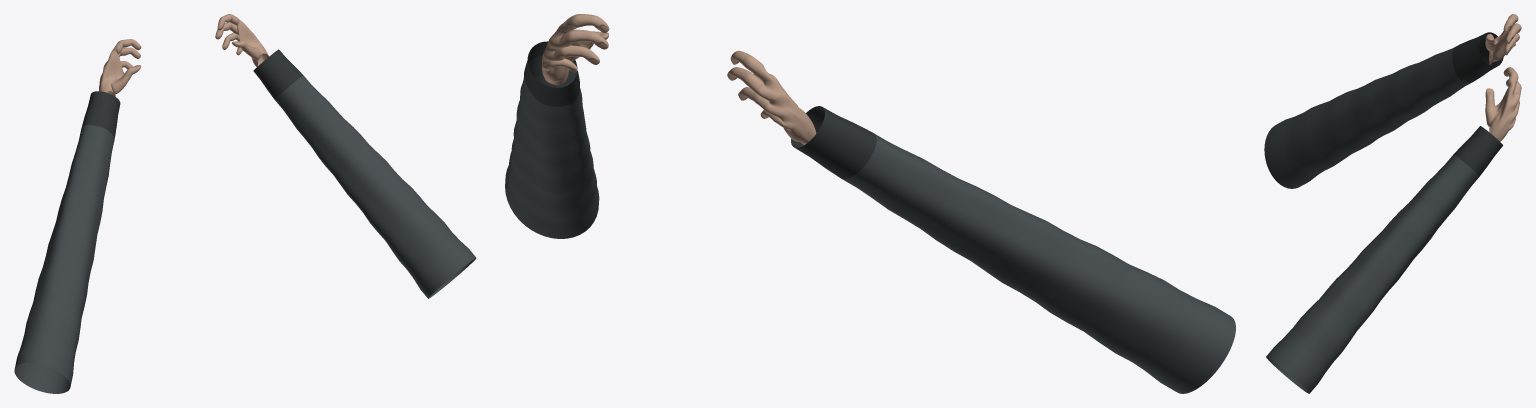
The model's file is photo.glb.
3 renders of one model, left to right at view 1: azimuth 30°, elevation 25°; view 2: azimuth 150°, elevation 25°; view 3: azimuth 270°, elevation 25°, orthographic. The views are drawn at different scales.
Visible parts, largest first — view 1: RightHand_photo_Sleeve, LeftHand_photo_Sleeve, LeftHand_photo, RightHand_photo; view 2: LeftHand_photo_Sleeve, RightHand_photo_Sleeve, LeftHand_photo, RightHand_photo; view 3: RightHand_photo_Sleeve, LeftHand_photo_Sleeve, RightHand_photo, LeftHand_photo.
Boxes of the visible parts, x1,y1,x2,y2 form: RightHand_photo_Sleeve: (253, 49, 476, 298); LeftHand_photo_Sleeve: (14, 91, 120, 393); LeftHand_photo: (99, 39, 141, 96); RightHand_photo: (215, 14, 268, 66); LeftHand_photo_Sleeve: (791, 106, 1235, 393); RightHand_photo_Sleeve: (505, 41, 599, 238); LeftHand_photo: (727, 50, 816, 145); RightHand_photo: (542, 14, 609, 85); RightHand_photo_Sleeve: (1266, 126, 1502, 393); LeftHand_photo_Sleeve: (1264, 32, 1503, 188); RightHand_photo: (1485, 67, 1521, 141); LeftHand_photo: (1485, 14, 1521, 65).
Bounding box in the file's own units: 1.09 × 0.5496 × 0.4855.
